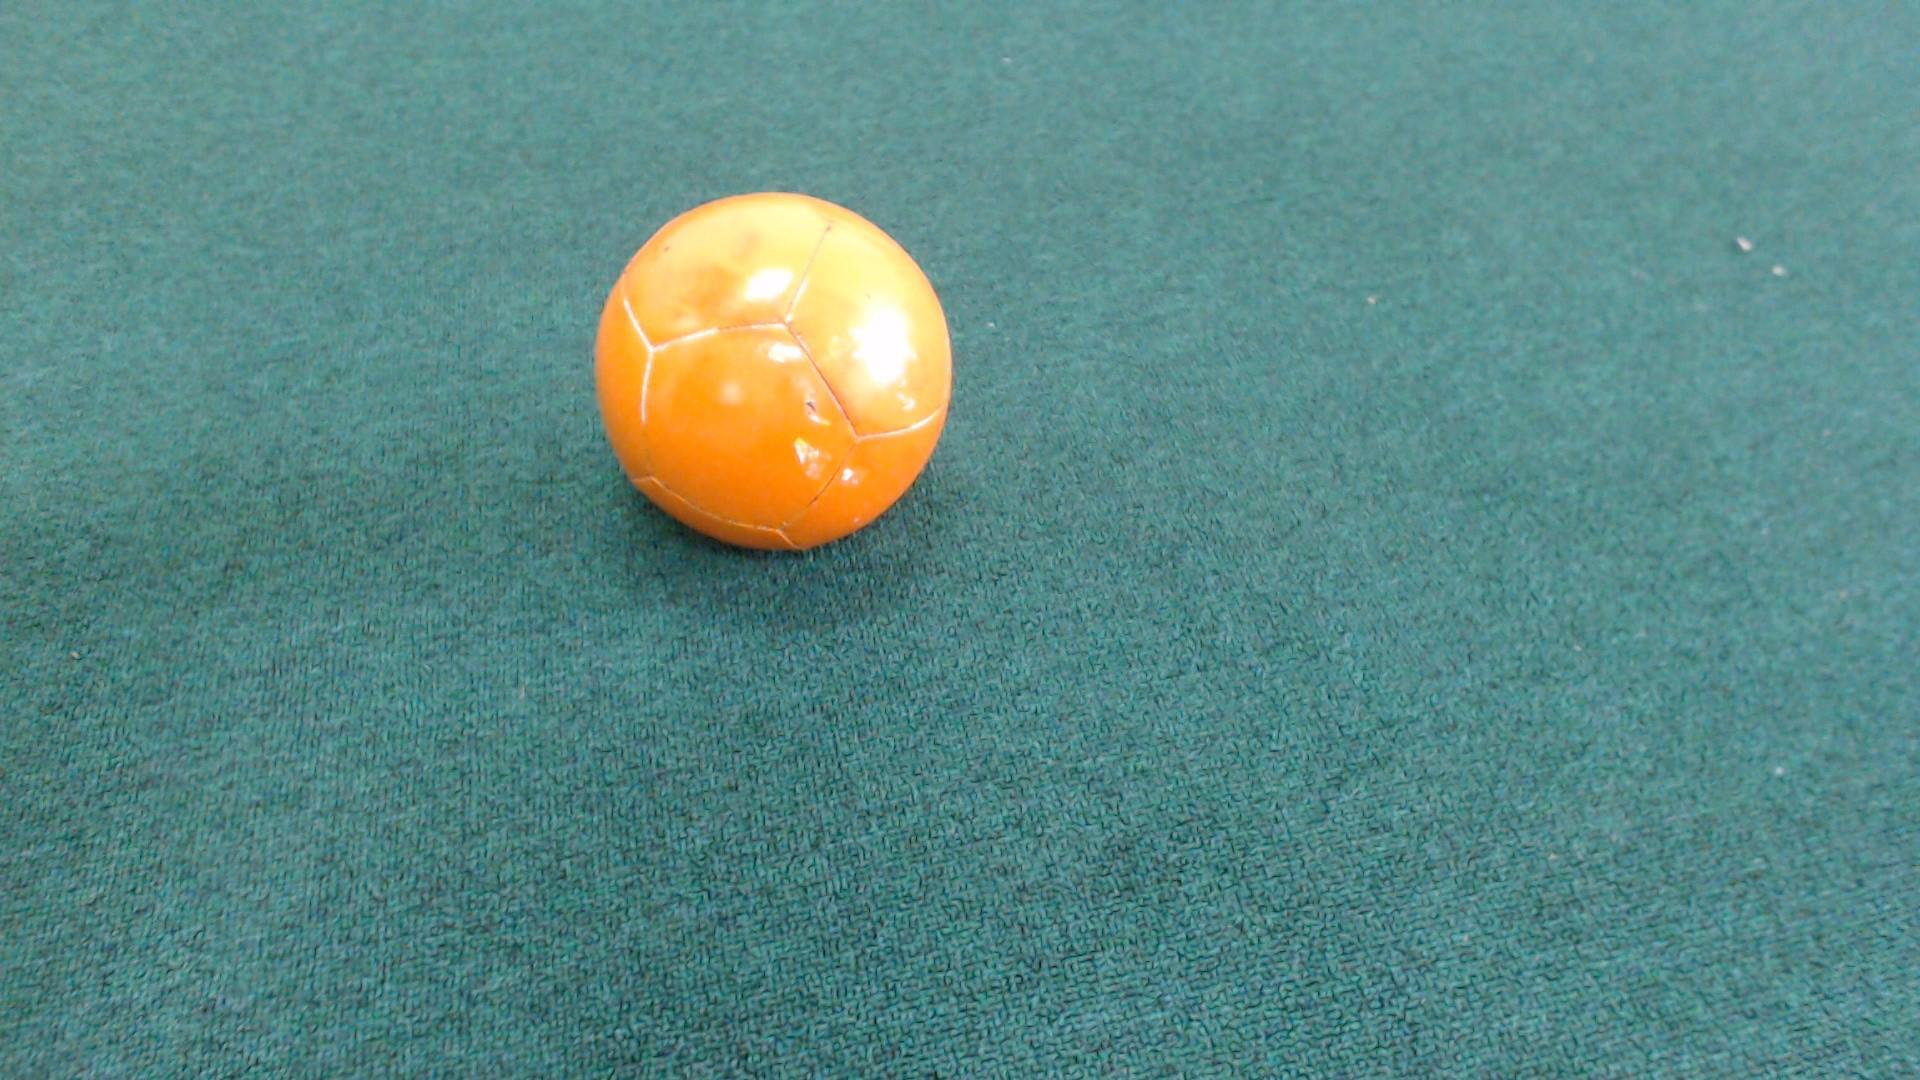bola: (582, 181, 959, 556)
